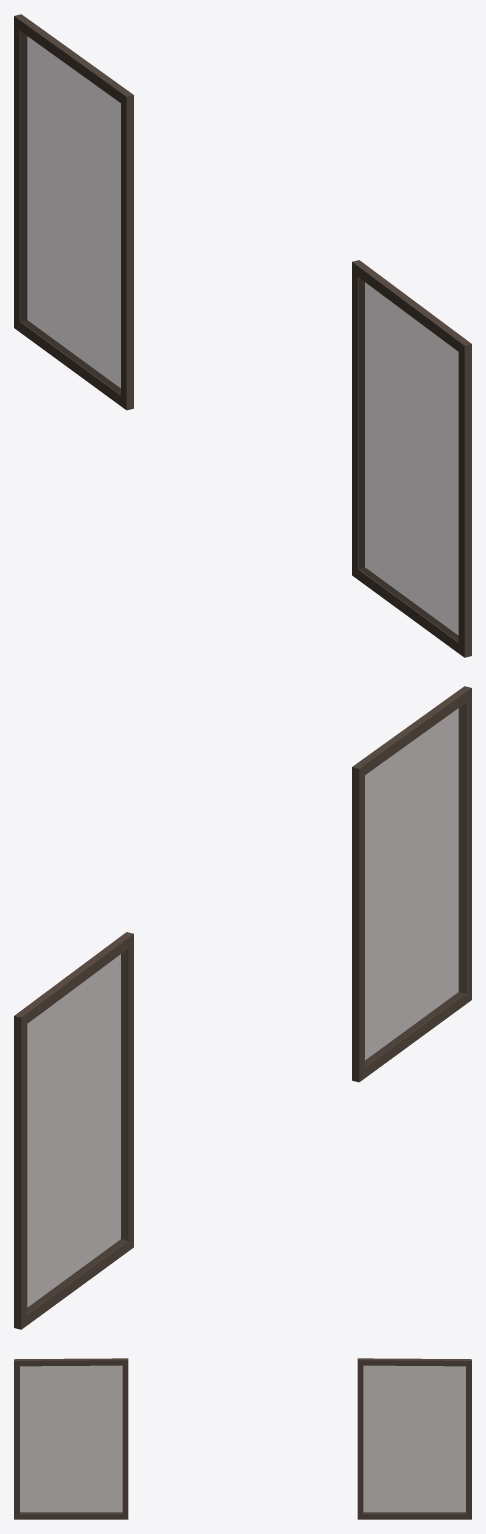
Rendered from EntranceRight.glb.
3 renders of one model, top to bottom at view 1: azimuth 30°, elevation 25°; view 2: azimuth 150°, elevation 25°; view 3: azimuth 270°, elevation 25°, orthographic. The views are drawn at different scales.
Visible parts, largest first — view 1: EntranceRight_DoorLeft, EntranceRight_DoorRight; view 2: EntranceRight_DoorRight, EntranceRight_DoorLeft; view 3: EntranceRight_DoorRight, EntranceRight_DoorLeft.
Part boxes in pixels (x1=…): EntranceRight_DoorLeft: x1=352, y1=260, x2=471, y2=657; EntranceRight_DoorRight: x1=14, y1=14, x2=133, y2=410; EntranceRight_DoorRight: x1=14, y1=932, x2=133, y2=1329; EntranceRight_DoorLeft: x1=352, y1=686, x2=471, y2=1082; EntranceRight_DoorRight: x1=357, y1=1358, x2=471, y2=1519; EntranceRight_DoorLeft: x1=14, y1=1358, x2=128, y2=1519.
Size of what is drawn, in the model's own units: 0.1304 by 5.25 by 13.67.
2 materials, 2 textured.
